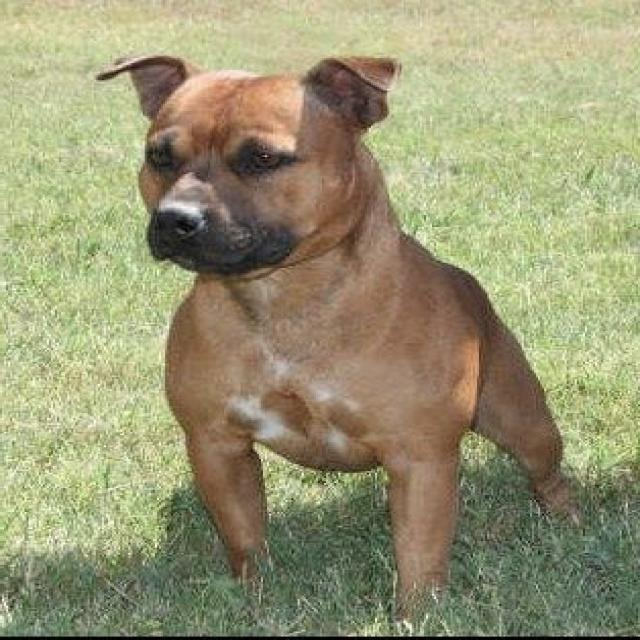staffordshire_bullterrier: (90, 51, 574, 613)
